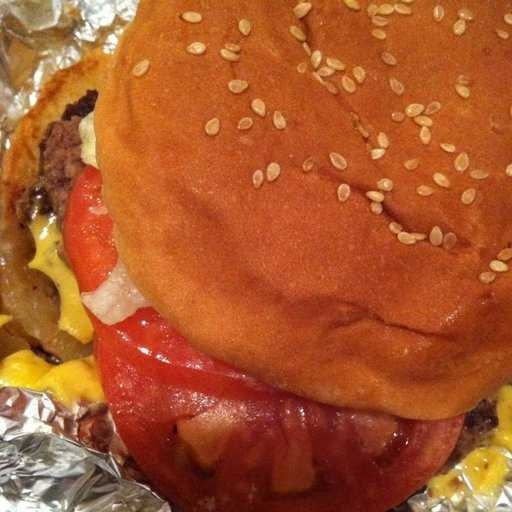hamburger: (80, 15, 512, 485)
